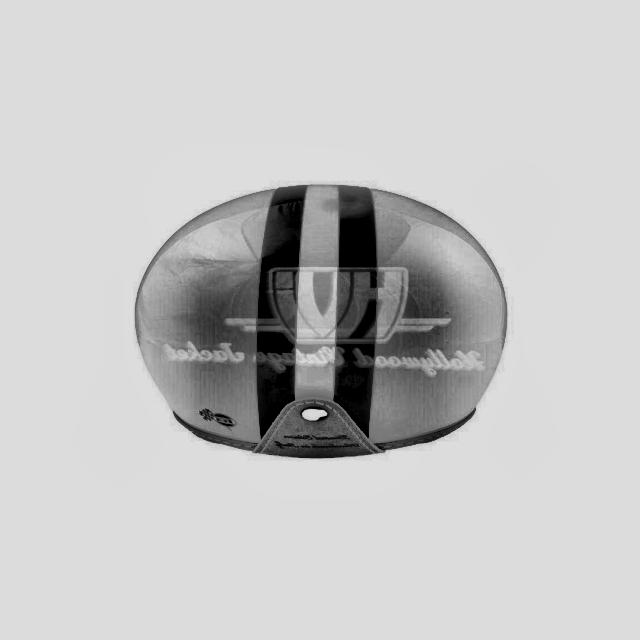Helmet: (120, 171, 514, 470)
